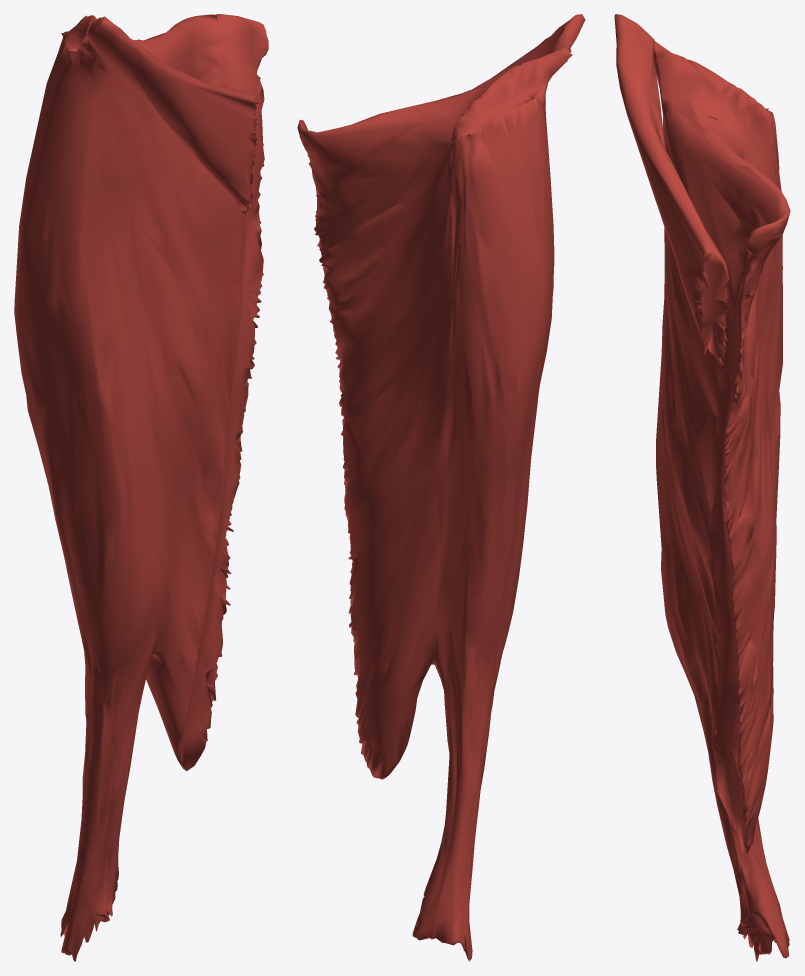
Rendered from musculos-adductor-magnus-l.glb.
The picture shows the model from 3 angles, left to right: view 1: azimuth 30°, elevation 25°; view 2: azimuth 150°, elevation 25°; view 3: azimuth 270°, elevation 25°; orthographic projection. The views are drawn at different scales.
Parts seen in each view (by area): view 1: Adductor magnus.l, (Adductor minimus).l; view 2: Adductor magnus.l, (Adductor minimus).l; view 3: Adductor magnus.l, (Adductor minimus).l.
Boxes of the visible parts, x1,y1,x2,y2 form: Adductor magnus.l: [14, 14, 268, 961]; (Adductor minimus).l: [86, 16, 259, 215]; Adductor magnus.l: [297, 47, 572, 961]; (Adductor minimus).l: [472, 14, 585, 89]; Adductor magnus.l: [653, 41, 790, 961]; (Adductor minimus).l: [614, 14, 729, 366].
Bounding box in the file's own units: 0.0975 × 0.3668 × 0.0631.
